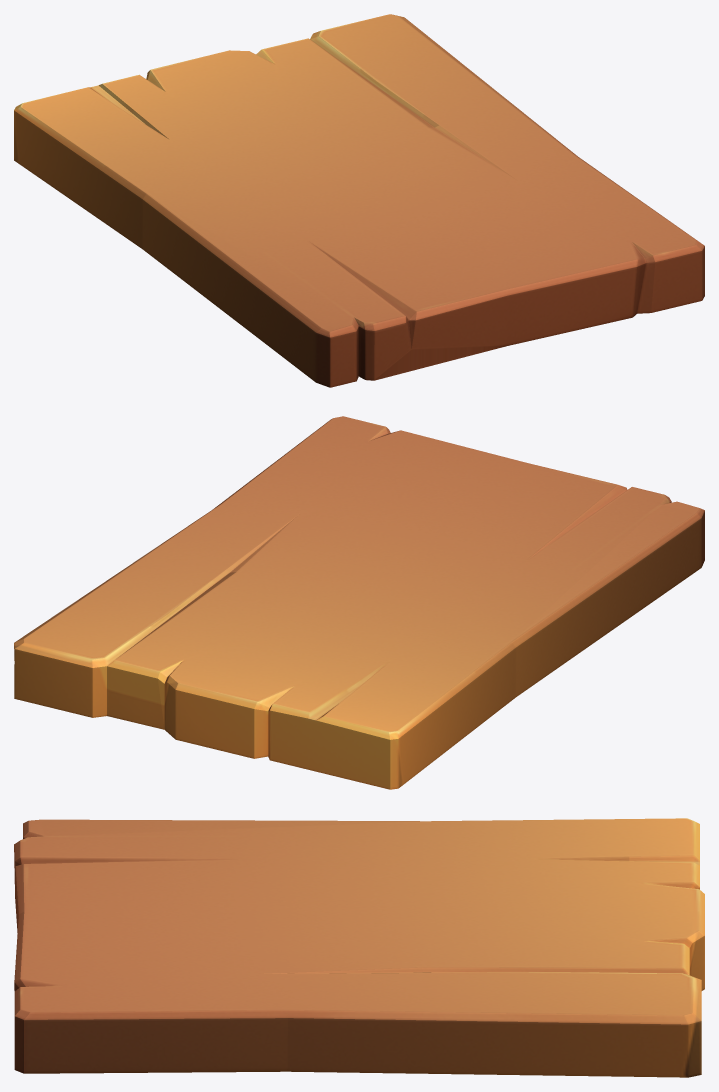
The model's file is HeroesShip.FBX.
The picture shows the model from 3 angles, top to bottom: view 1: azimuth 30°, elevation 25°; view 2: azimuth 150°, elevation 25°; view 3: azimuth 270°, elevation 25°; orthographic projection. The views are drawn at different scales.
Visible parts, largest first — view 1: HeroesShip; view 2: HeroesShip; view 3: HeroesShip.
Part boxes in pixels (x1,y1,x2,y2): HeroesShip: (14,14,704,387); HeroesShip: (14,416,704,789); HeroesShip: (14,818,704,1077).
Bounding box in the file's own units: 106 × 14.18 × 151.
1 material, 1 textured.
